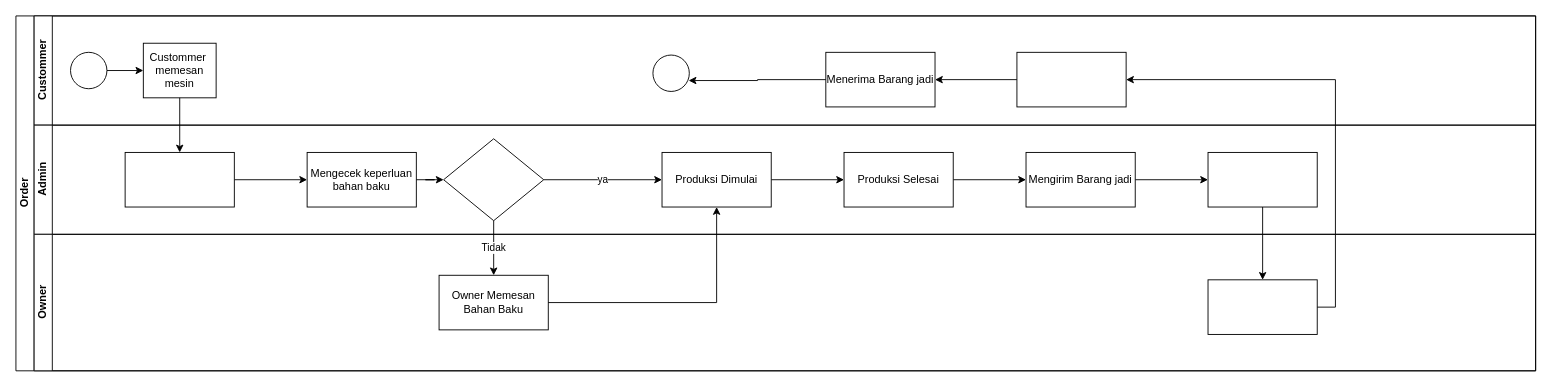
This 1552x387 diagram has some shape labels left out. The shapes that lost their labels are listed below. From the top down, each one's centre as x and y in pixels, then its label:
At point 1071,79: "Melakukan Pembayaran".
At point 179,179: "Menerima Pesanan".
At point 493,179: "Gudang mencukupi?".
At point 1262,179: "Membuat Laporan".
At point 1262,306: "Menerima Laporan".
